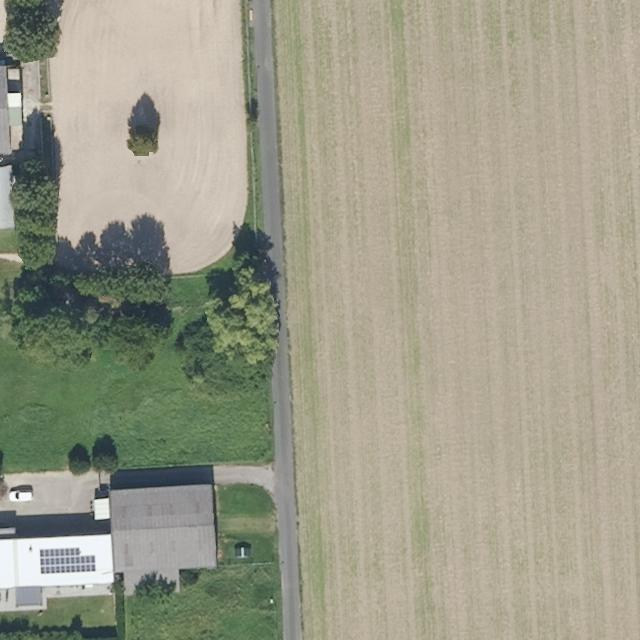PV: (36, 544, 98, 577)
